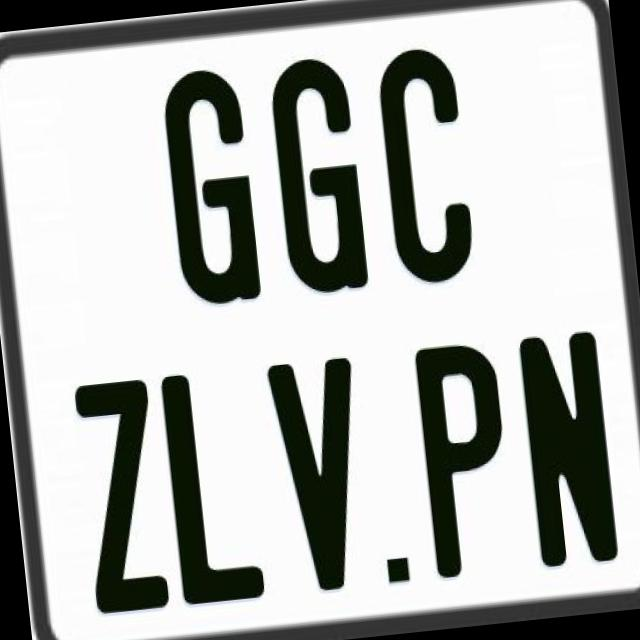C: (374, 41, 482, 290)
G: (266, 54, 376, 304), (160, 61, 262, 302)
L: (158, 365, 272, 608)
N: (516, 329, 623, 570)
P: (413, 336, 520, 574)
V: (264, 356, 376, 598)
Z: (70, 376, 169, 614)
